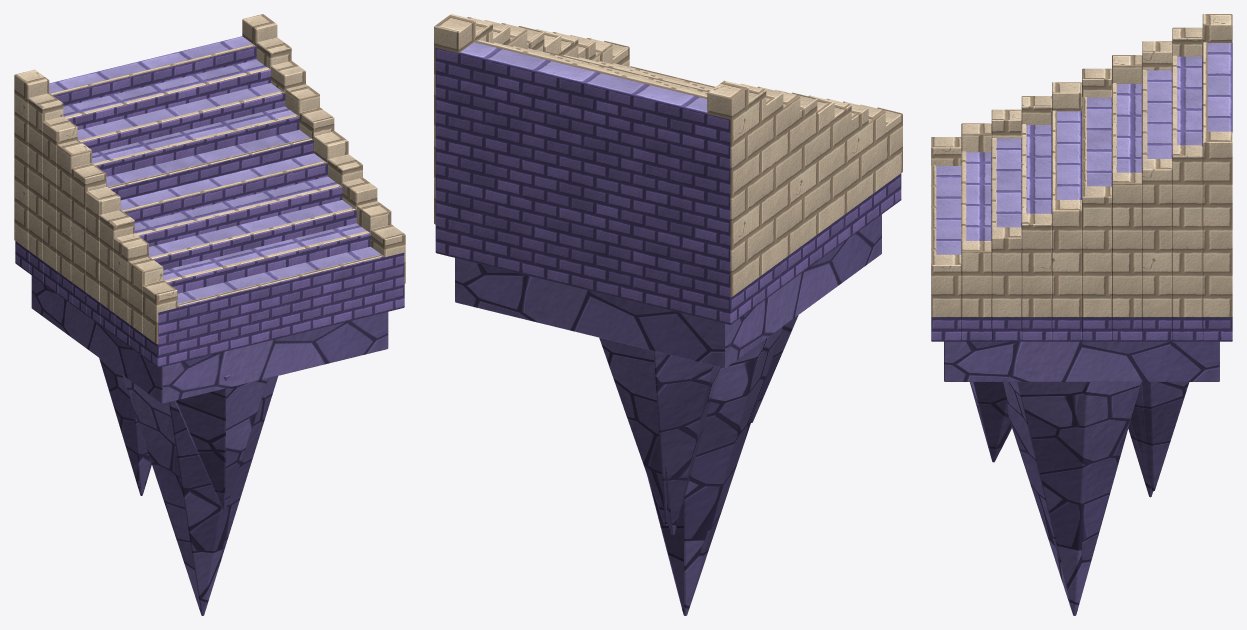
File: Escalera.fbx
The picture shows the model from 3 angles, left to right: view 1: azimuth 30°, elevation 25°; view 2: azimuth 150°, elevation 25°; view 3: azimuth 270°, elevation 25°; orthographic projection. The views are drawn at different scales.
Visible parts, largest first — view 1: Mod_Escalera; view 2: Mod_Escalera; view 3: Mod_Escalera.
Part boxes in pixels (x1,y1,x2,y2): Mod_Escalera: [14, 14, 405, 615]; Mod_Escalera: [434, 14, 902, 615]; Mod_Escalera: [931, 14, 1232, 615].
Size of the model in its own units: 6.06 by 11.93 by 6.01.
